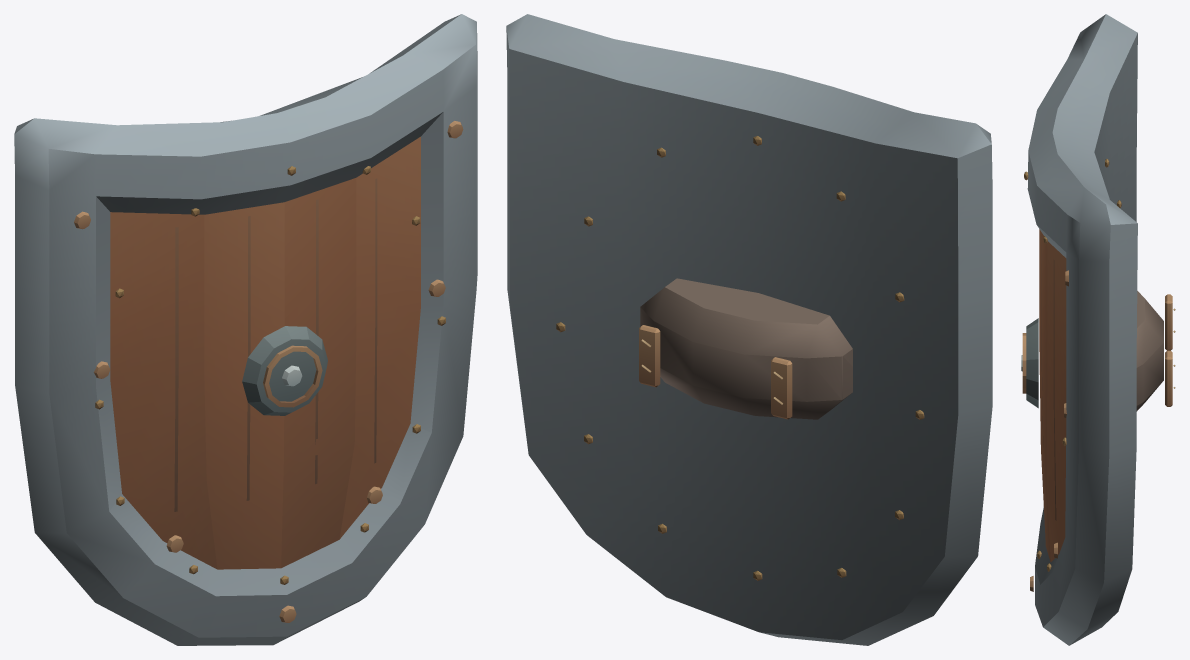
File: escudo_roble_t1.glb
3 renders of one model, left to right at view 1: azimuth 30°, elevation 25°; view 2: azimuth 150°, elevation 25°; view 3: azimuth 270°, elevation 25°, orthographic. The views are drawn at different scales.
Visible parts, largest first — view 1: escudo_roble_t1_finished; view 2: escudo_roble_t1_finished; view 3: escudo_roble_t1_finished.
Part boxes in pixels (<box>): escudo_roble_t1_finished: <box>14,14,477,645</box>; escudo_roble_t1_finished: <box>506,14,992,645</box>; escudo_roble_t1_finished: <box>1021,14,1175,645</box>.
Bounding box in the file's own units: 0.8826 × 1.02 × 0.2787.
2 materials, 2 textured.
